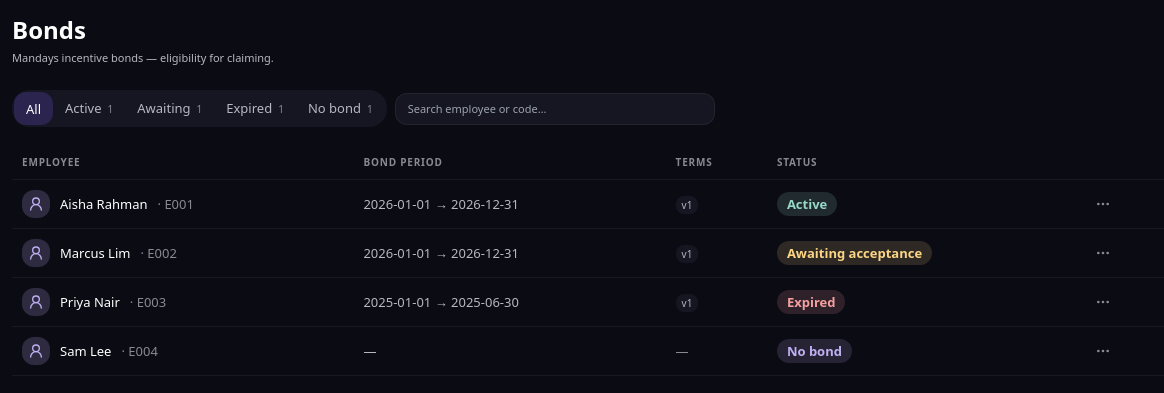
Test case: BondsPage › search filters by name and code
Check: the text "Aisha Rahman" is shown, box [60, 194, 148, 214]
In the field named "Search employees": (555, 108) [395, 92, 715, 124], type "E003"
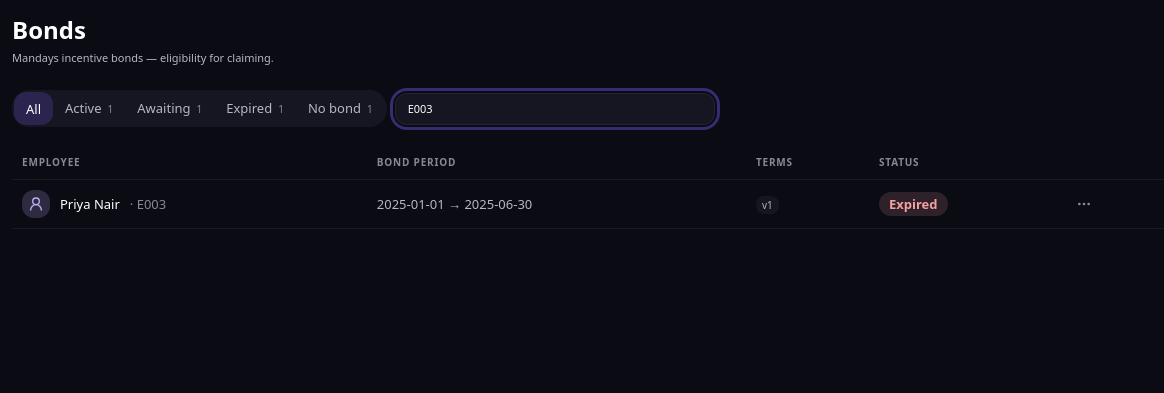
Check: the text "Priya Nair" is shown, box [60, 194, 120, 214]
Check: the text "Aisha Rahman" is gone
